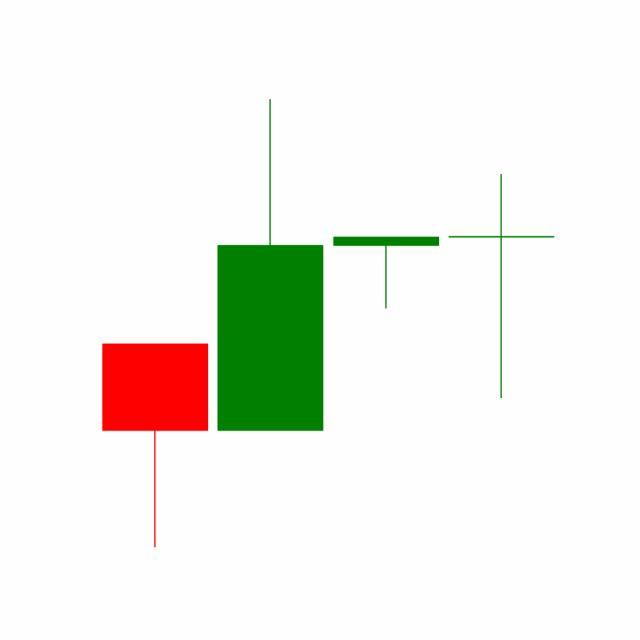Dragonfly Doji: (328, 236, 444, 310)
